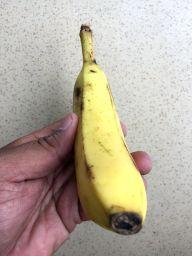banana: (70, 22, 149, 237)
